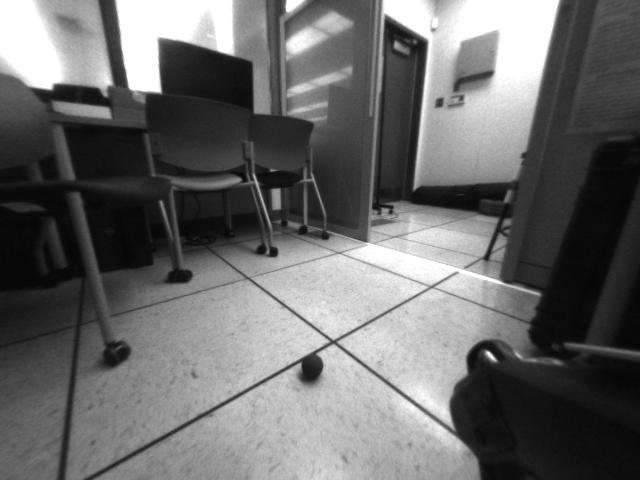dogtoy: (296, 348, 329, 385)
